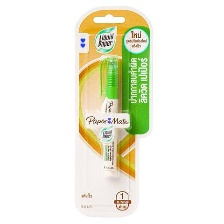book: (71, 5, 154, 221)
correction_fluid: (94, 53, 121, 178)
